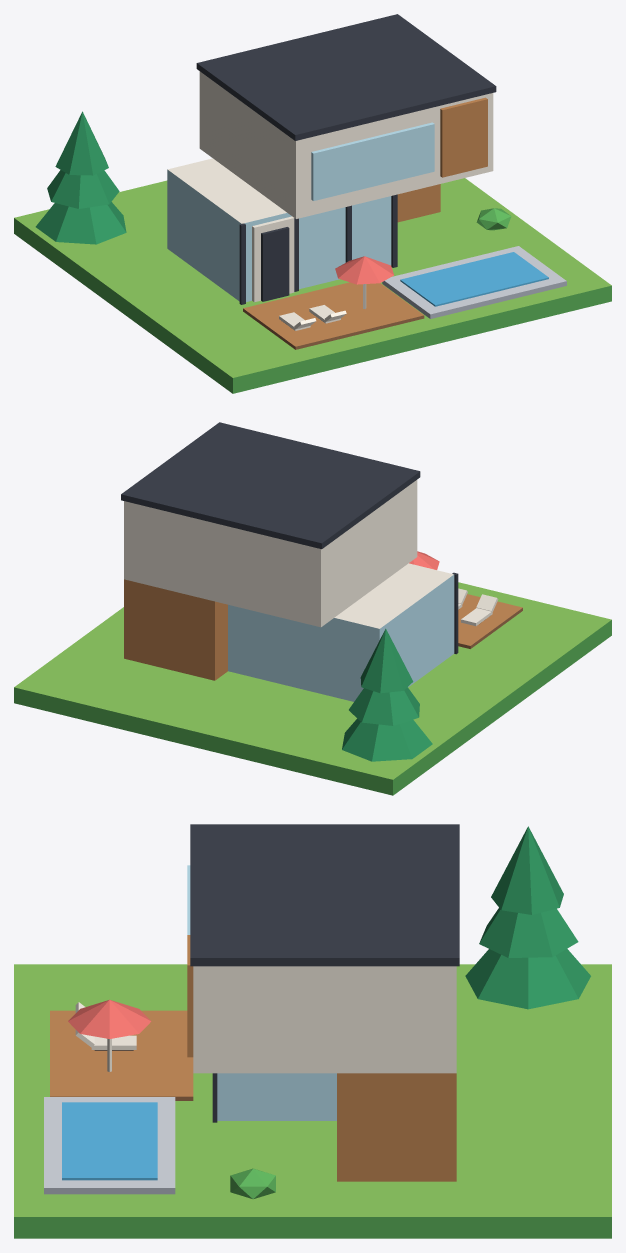
File: house_modern_glass.glb
The picture shows the model from 3 angles, top to bottom: view 1: azimuth 30°, elevation 25°; view 2: azimuth 150°, elevation 25°; view 3: azimuth 270°, elevation 25°; orthographic projection. The views are drawn at different scales.
Visible parts, largest first — view 1: house_modern_glass; view 2: house_modern_glass; view 3: house_modern_glass.
Part boxes in pixels (<box>): house_modern_glass: <box>14,14,611,393</box>; house_modern_glass: <box>14,422,611,795</box>; house_modern_glass: <box>14,824,611,1238</box>.
Size of the model in its own units: 1 by 0.455 by 1.
